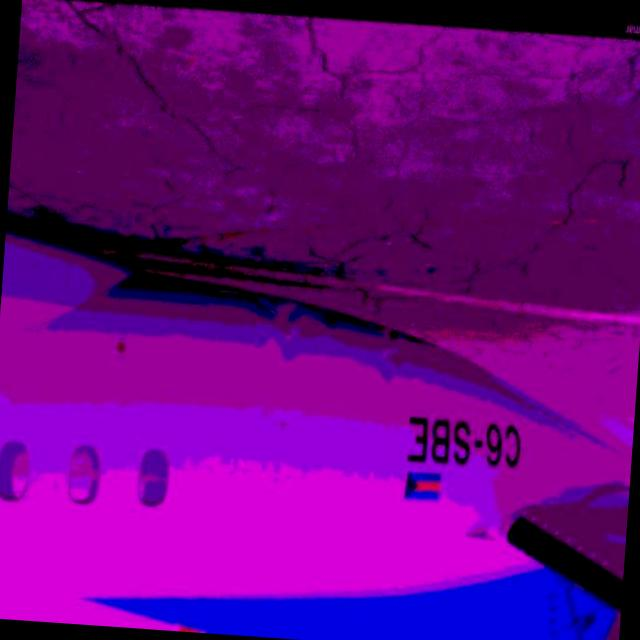dent: (256, 294, 310, 366), (366, 322, 408, 386)
